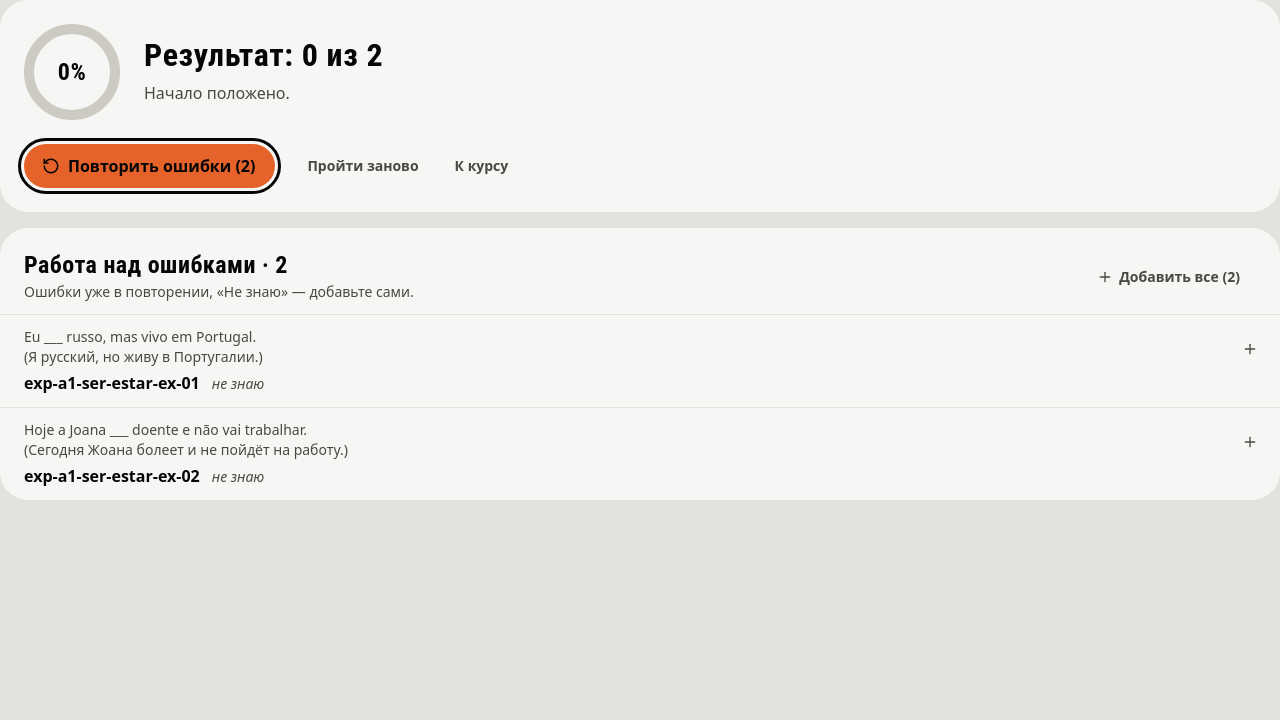
Test case: ResultScreen: mistakes («Работа над ошибками») › «Добавить все (n)» adds every missing card; then «Все ошибки в повторении.»
The image size is (1280, 720).
Click the button "Добавить все (2)" at (1169, 277), box x1=1081 y1=259 x2=1256 y2=295
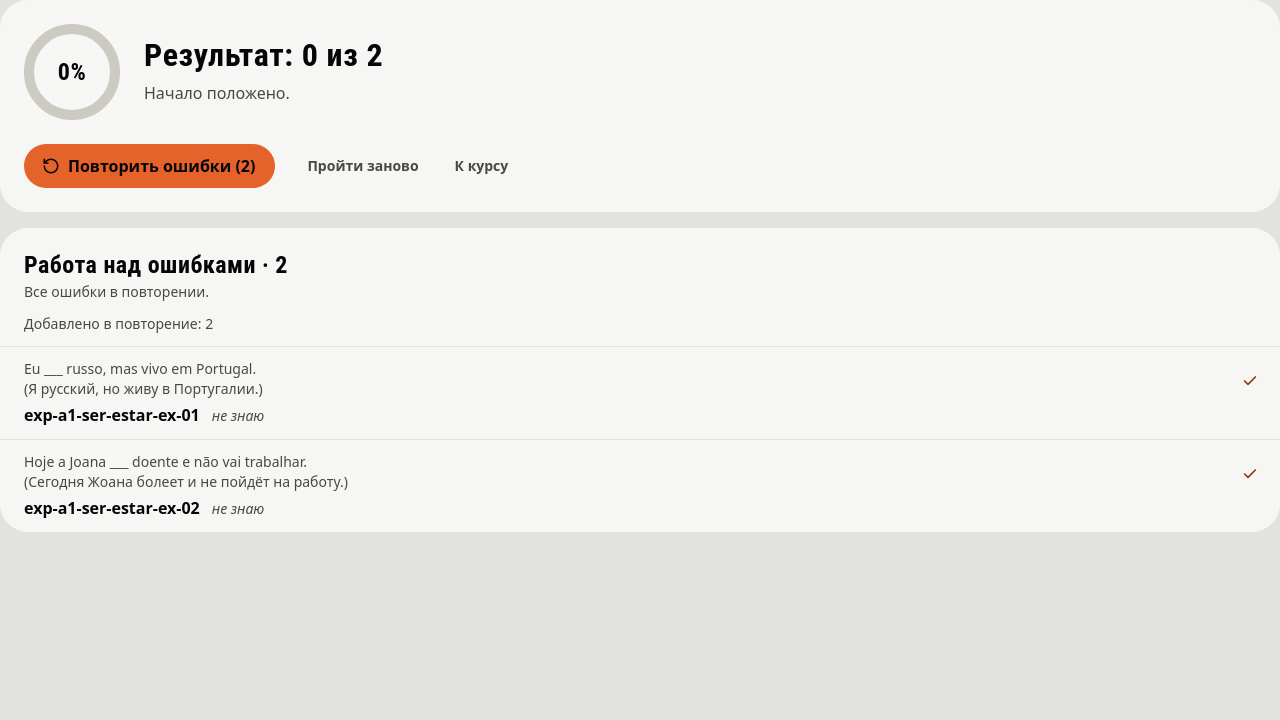
Result: the text "Добавлено в повторение: 2" is shown at x1=24 y1=314 x2=213 y2=333
Result: the text "Все ошибки в повторении." is shown at x1=24 y1=282 x2=209 y2=301
